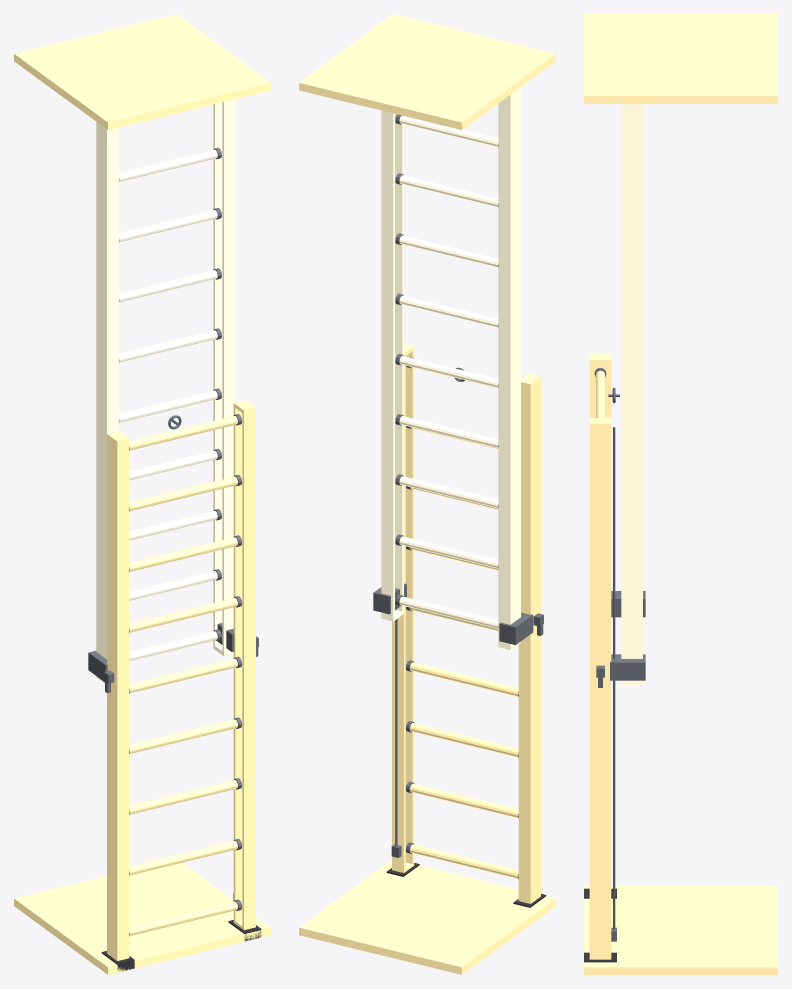
Rendered from ladder_medium.glb.
3 renders of one model, left to right at view 1: azimuth 30°, elevation 25°; view 2: azimuth 150°, elevation 25°; view 3: azimuth 270°, elevation 25°, orthographic. The views are drawn at different scales.
Parts seen in each view (by area): view 1: LadderMedium_Top-convcol, LadderMedium_Foot-convcol, LadderMedium_BaseL_Front, LadderMedium_FlyR_Front, LadderMedium_BaseR_Front, LadderMedium_FlyL_Web-convcol, LadderMedium_BaseL_Web-convcol, LadderMedium_FlyL_Front, LadderMedium_BaseR_Back, LadderMedium_FlyR_Back, LadderMedium_BaseR_Web-convcol, LadderMedium_FlyR_Web-convcol (+19 smaller); view 2: LadderMedium_Top-convcol, LadderMedium_Foot-convcol, LadderMedium_FlyR_Back, LadderMedium_FlyL_Back, LadderMedium_FlyL_Web-convcol, LadderMedium_BaseL_Back, LadderMedium_BaseL_Web-convcol, LadderMedium_BaseR_Front, LadderMedium_FlyR_Front, LadderMedium_BaseR_Back, LadderMedium_FlyR_Web-convcol, LadderMedium_BaseRung1 (+16 smaller); view 3: LadderMedium_Top-convcol, LadderMedium_Foot-convcol, LadderMedium_FlyR_Web-convcol, LadderMedium_BaseR_Web-convcol, LadderMedium_BaseR_Front, LadderMedium_BaseR_Back, LadderMedium_FlyR_Back, LadderMedium_FlyR_Front, LadderMedium_Rope, LadderMedium_GuideR.
Part boxes in pixels (left/top/right/bottom): LadderMedium_Top-convcol: left=14, top=14, right=270, bottom=129; LadderMedium_Foot-convcol: left=14, top=863, right=270, bottom=974; LadderMedium_BaseL_Front: left=115, top=437, right=129, bottom=960; LadderMedium_FlyR_Front: left=222, top=99, right=235, bottom=655; LadderMedium_BaseR_Front: left=242, top=409, right=255, bottom=927; LadderMedium_FlyL_Web-convcol: left=96, top=122, right=110, bottom=678; LadderMedium_BaseL_Web-convcol: left=107, top=434, right=120, bottom=960; LadderMedium_FlyL_Front: left=105, top=127, right=118, bottom=659; LadderMedium_BaseR_Back: left=233, top=403, right=242, bottom=923; LadderMedium_FlyR_Back: left=213, top=102, right=222, bottom=648; LadderMedium_BaseR_Web-convcol: left=252, top=407, right=255, bottom=927; LadderMedium_FlyR_Web-convcol: left=232, top=99, right=235, bottom=586; LadderMedium_Top-convcol: left=299, top=14, right=555, bottom=129; LadderMedium_Foot-convcol: left=299, top=860, right=555, bottom=974; LadderMedium_FlyR_Back: left=381, top=111, right=394, bottom=621; LadderMedium_FlyL_Back: left=498, top=94, right=512, bottom=648; LadderMedium_FlyL_Web-convcol: left=507, top=88, right=520, bottom=645; LadderMedium_BaseL_Back: left=518, top=383, right=532, bottom=903; LadderMedium_BaseL_Web-convcol: left=527, top=378, right=540, bottom=902; LadderMedium_BaseR_Front: left=405, top=348, right=414, bottom=863; LadderMedium_FlyR_Front: left=395, top=114, right=403, bottom=612; LadderMedium_BaseR_Back: left=392, top=352, right=405, bottom=872; LadderMedium_FlyR_Web-convcol: left=381, top=111, right=384, bottom=617; LadderMedium_BaseRung1: left=410, top=783, right=518, bottom=818; LadderMedium_Top-convcol: left=584, top=14, right=777, bottom=103; LadderMedium_Foot-convcol: left=584, top=885, right=777, bottom=974; LadderMedium_FlyR_Web-convcol: left=621, top=103, right=642, bottom=685; LadderMedium_BaseR_Web-convcol: left=593, top=428, right=607, bottom=957; LadderMedium_BaseR_Front: left=589, top=424, right=593, bottom=957; LadderMedium_BaseR_Back: left=608, top=424, right=611, bottom=959; LadderMedium_FlyR_Back: left=639, top=103, right=642, bottom=657; LadderMedium_FlyR_Front: left=621, top=103, right=624, bottom=641; LadderMedium_Rope: left=613, top=427, right=615, bottom=929; LadderMedium_GuideR: left=610, top=654, right=645, bottom=680.
Size of the model in its own units: 1.35 by 6.75 by 1.35.
